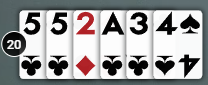2: (72, 11, 98, 40)
3: (126, 10, 151, 36)
4: (151, 10, 180, 37)
5: (18, 10, 45, 37), (46, 11, 72, 36)
a: (101, 11, 126, 37)
